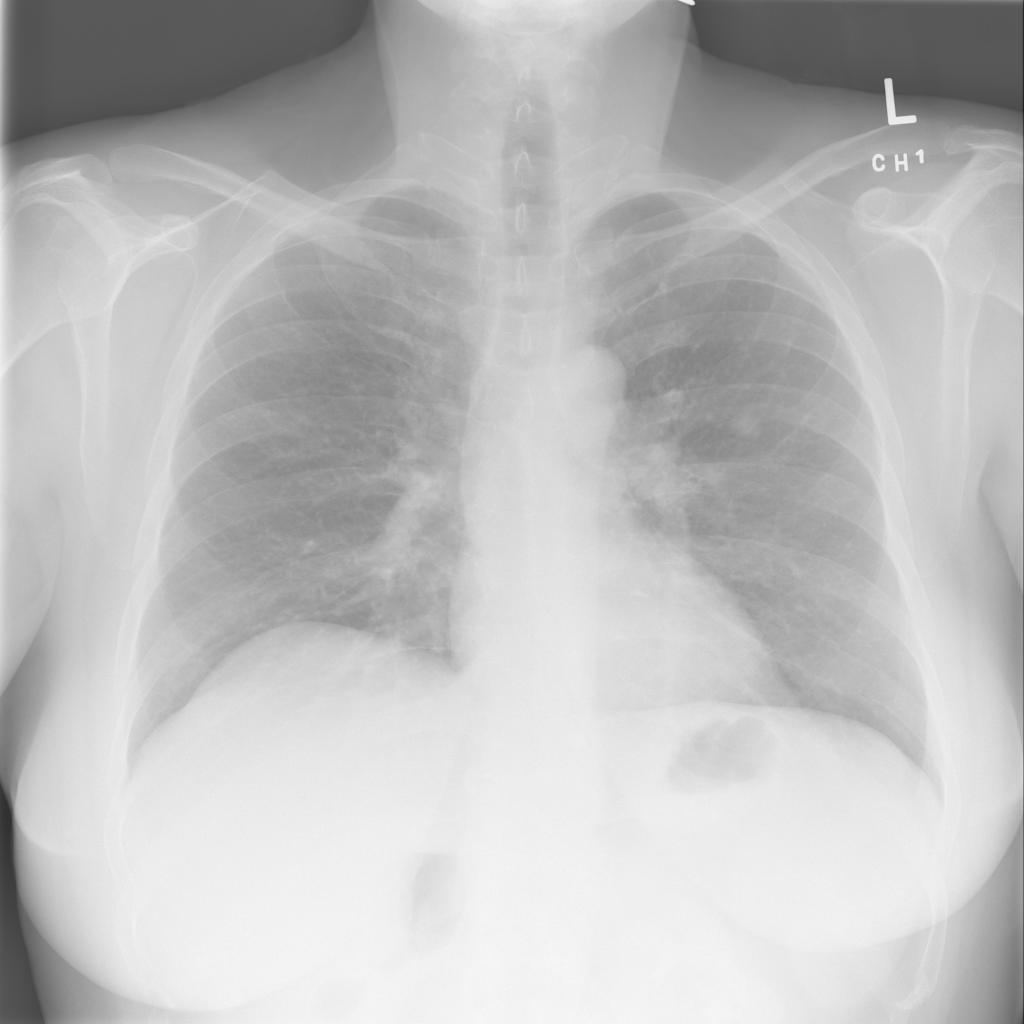Nodule: (88, 114, 110, 131)
